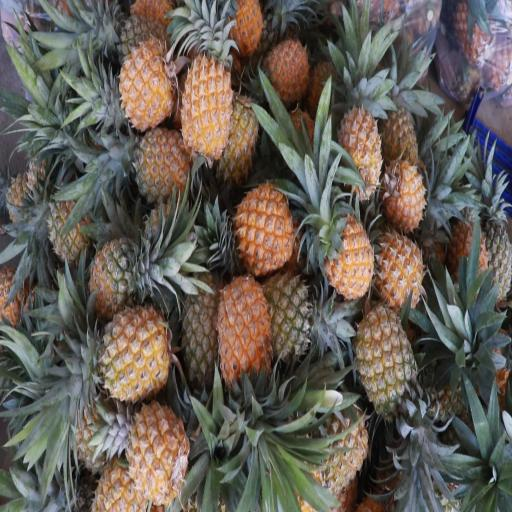------------------------------: (349, 287, 423, 423), (176, 262, 236, 390), (82, 229, 145, 320)
Pineapple - v8 v1: (88, 302, 176, 402), (214, 271, 272, 412), (121, 398, 190, 510), (178, 38, 234, 165), (122, 114, 194, 208), (228, 181, 295, 278), (334, 85, 384, 208), (322, 180, 377, 286), (120, 30, 174, 135), (311, 395, 370, 491), (258, 30, 312, 112), (372, 223, 423, 306), (379, 145, 428, 228)
